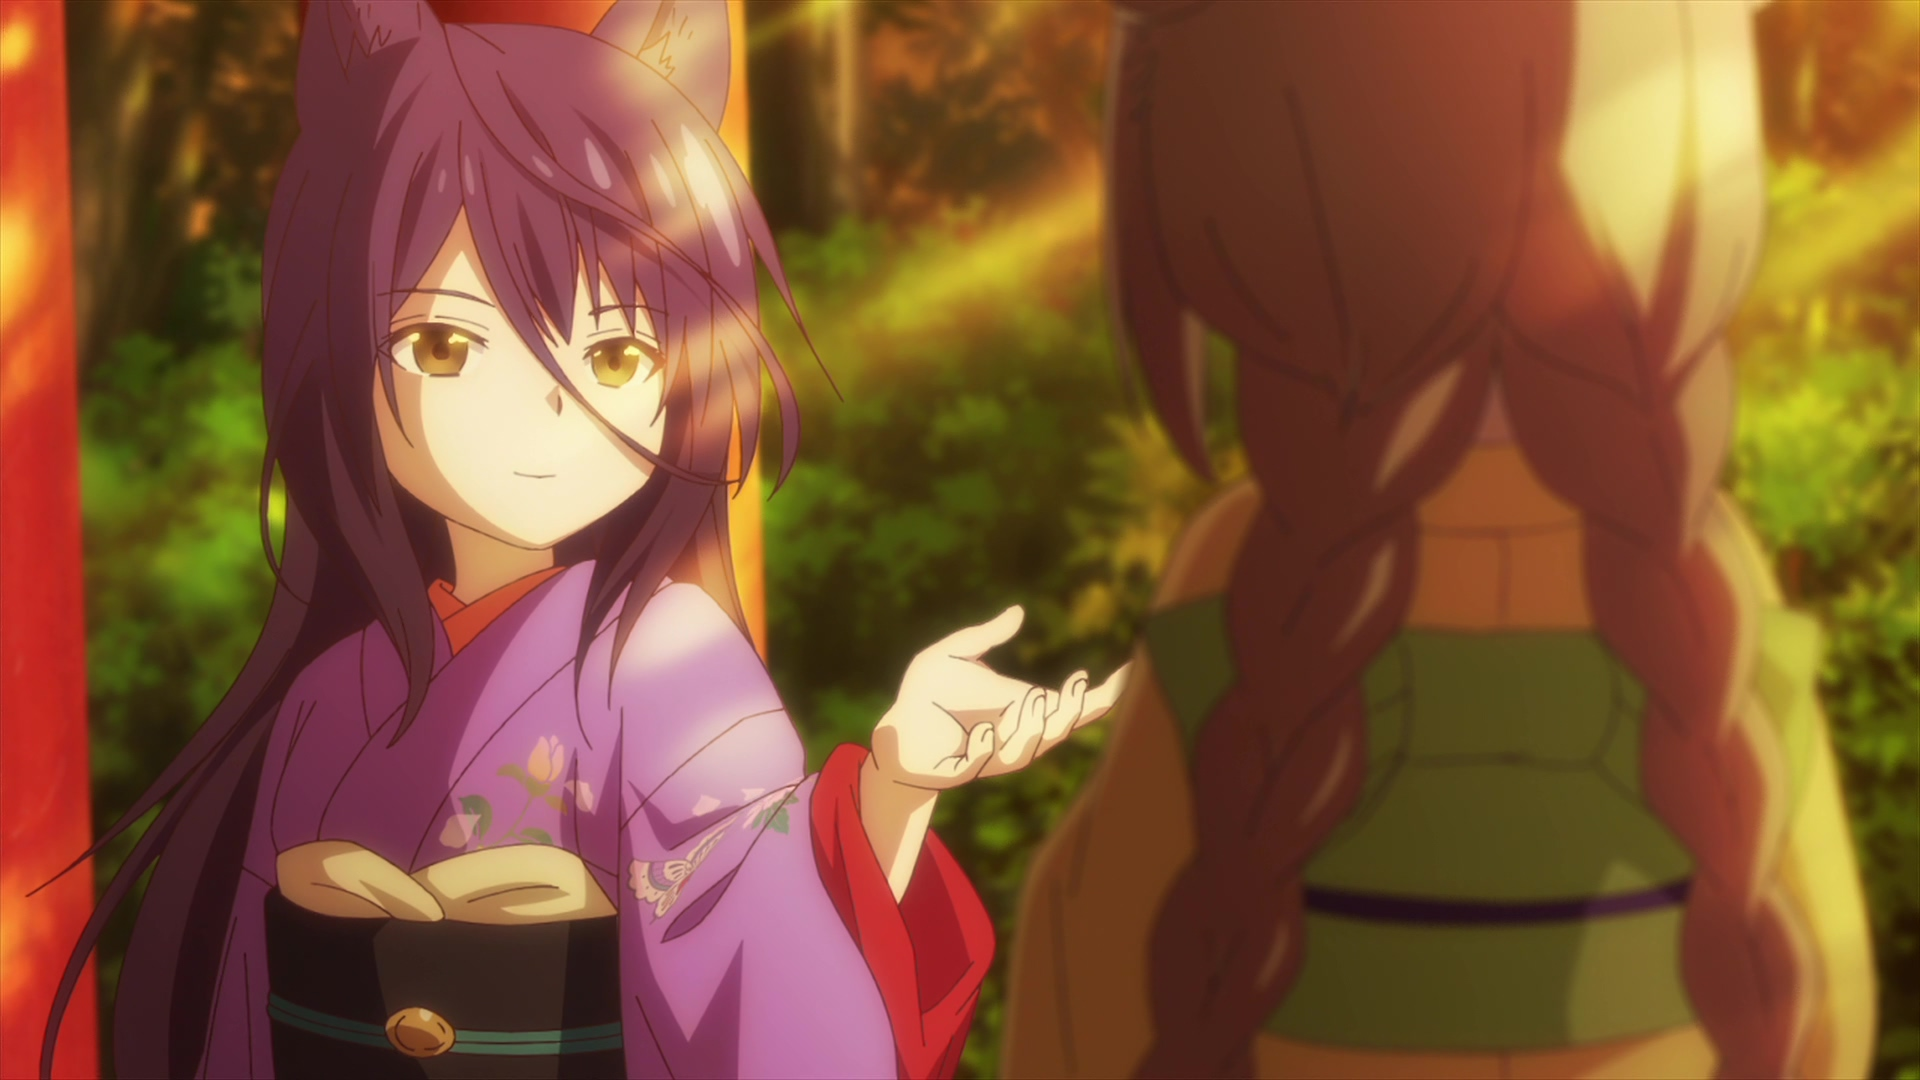柚: (1007, 1, 1874, 1080)
皋: (28, 1, 1129, 1080)
